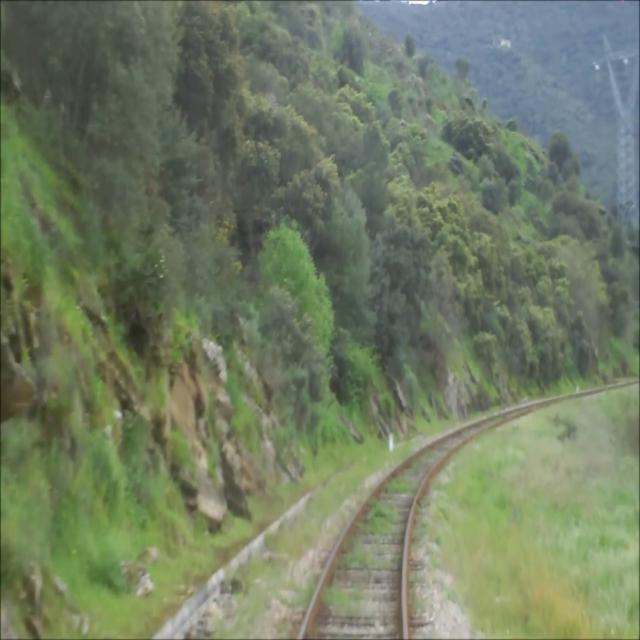rail-track: (302, 430, 471, 639)
